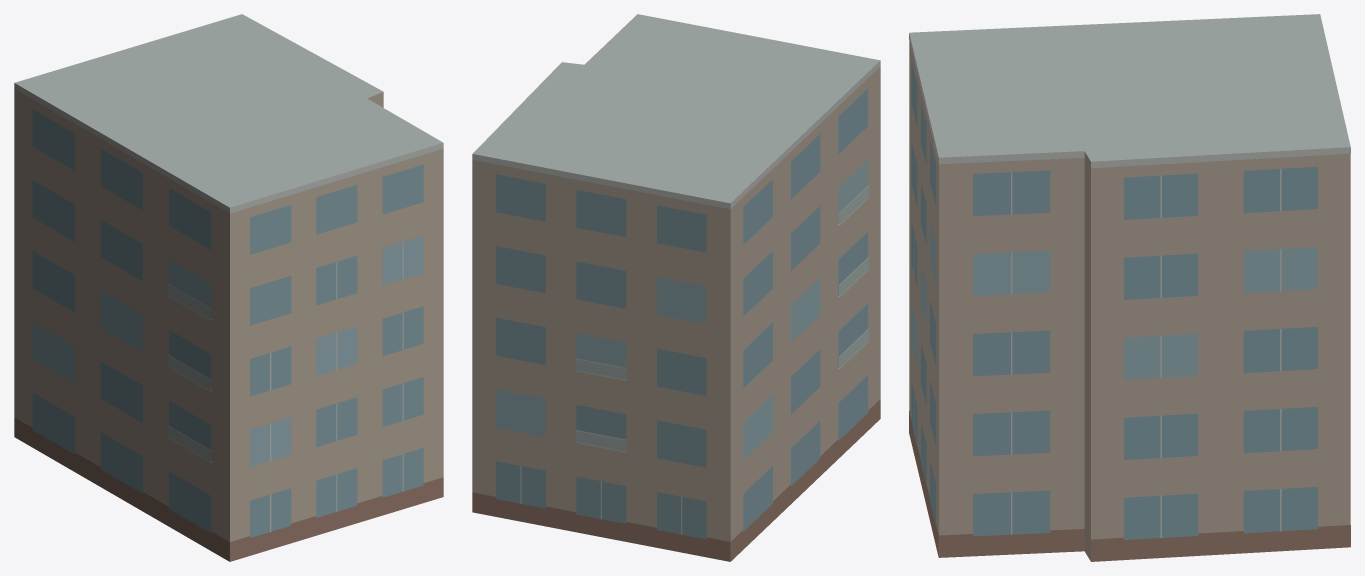
The model's file is survey-upis-32981192.glb.
The picture shows the model from 3 angles, left to right: view 1: azimuth 30°, elevation 25°; view 2: azimuth 150°, elevation 25°; view 3: azimuth 270°, elevation 25°; orthographic projection. The views are drawn at different scales.
Visible parts, largest first — view 1: survey-upis-32981192.tmp; view 2: survey-upis-32981192.tmp; view 3: survey-upis-32981192.tmp.
Boxes of the visible parts, <box> form: survey-upis-32981192.tmp: <box>14,14,443,561</box>; survey-upis-32981192.tmp: <box>472,14,880,561</box>; survey-upis-32981192.tmp: <box>909,14,1350,561</box>.
Bounding box in the file's own units: 11.81 × 14.9 × 14.92.
